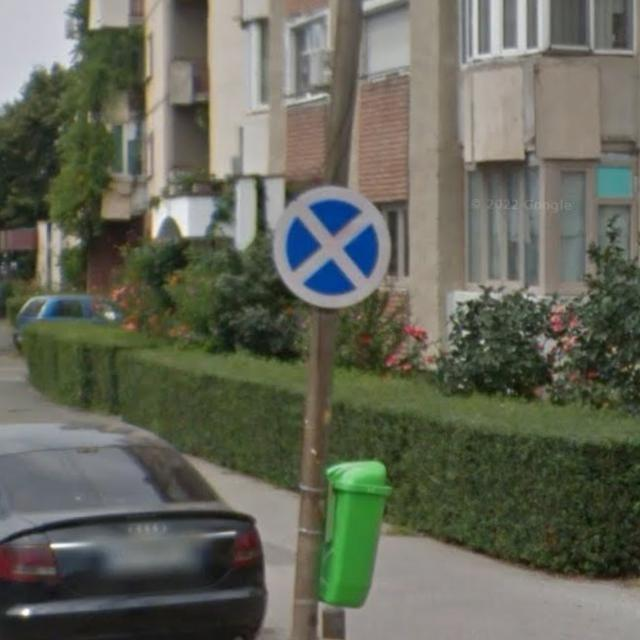forb_waiting: (272, 182, 391, 308)
